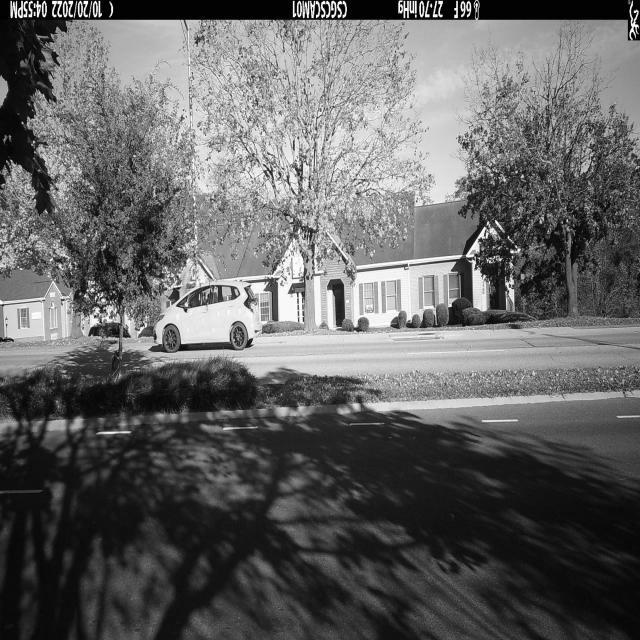Hatchback: (154, 282, 262, 353)
